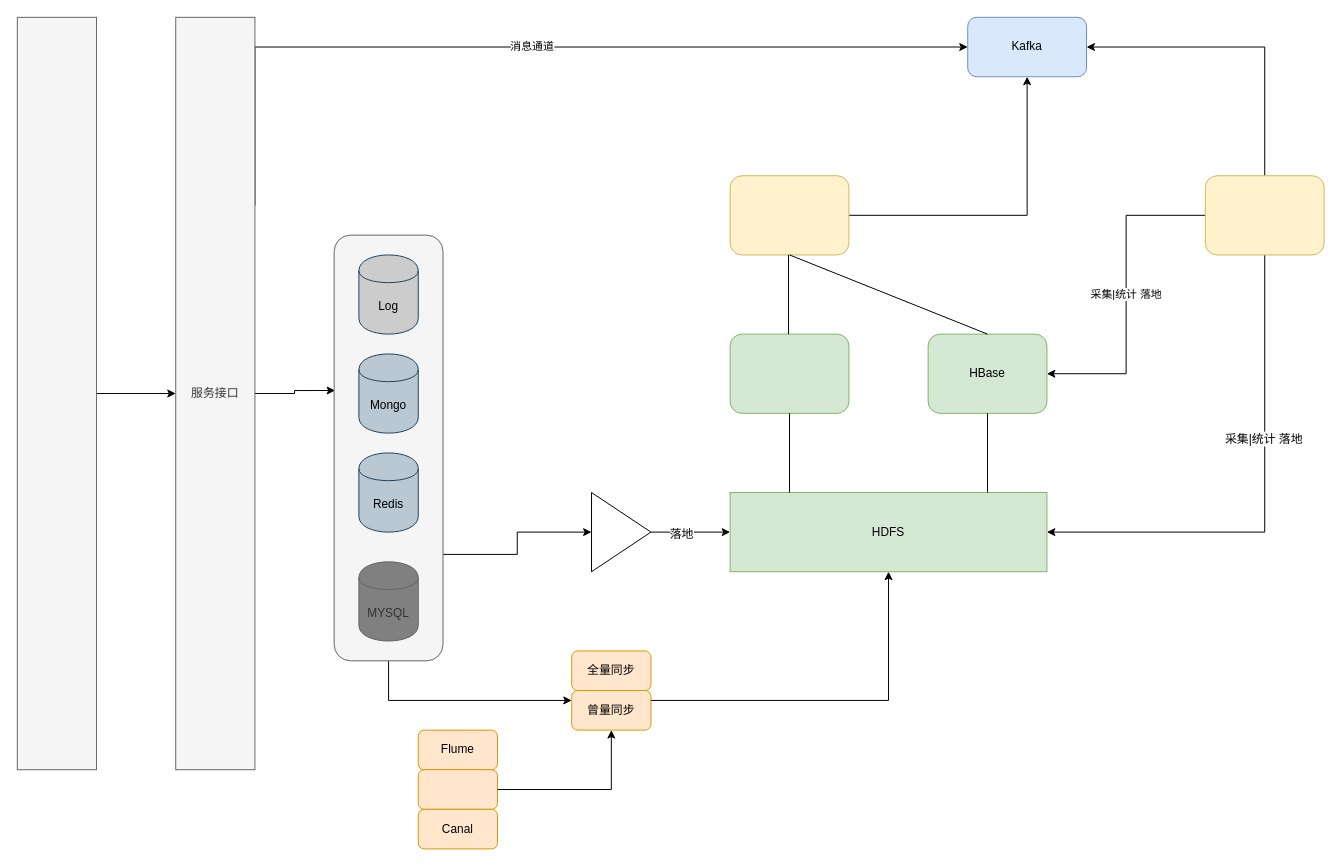
The diagram is 1341 pixels wide and 866 high, and some of its shapes have lost their labels. The shapes that lost their labels are listed below. From the top down, each one's centre as x and y in pixels, then its label:
(789,215): Spark、Streaming
(1264,215): Flink
(56,393): 业务数据
(789,373): Hive
(621,532): 采集
(457,789): DataX
